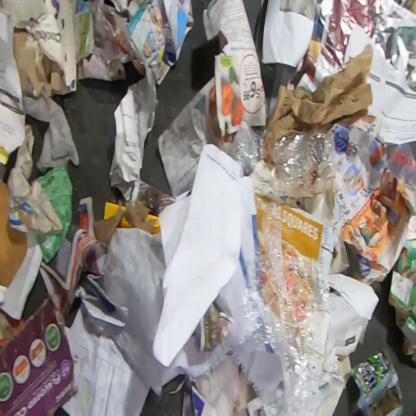cardboard: (264, 45, 373, 162), (0, 291, 79, 415), (0, 0, 79, 98), (7, 123, 63, 237), (0, 180, 44, 322), (32, 162, 74, 265), (387, 236, 415, 357), (315, 354, 352, 415), (146, 214, 161, 234), (103, 202, 119, 220), (118, 214, 134, 229)
soft_plastic: (237, 199, 332, 416), (22, 90, 80, 175), (266, 127, 336, 196), (344, 351, 405, 415), (229, 126, 265, 174)
